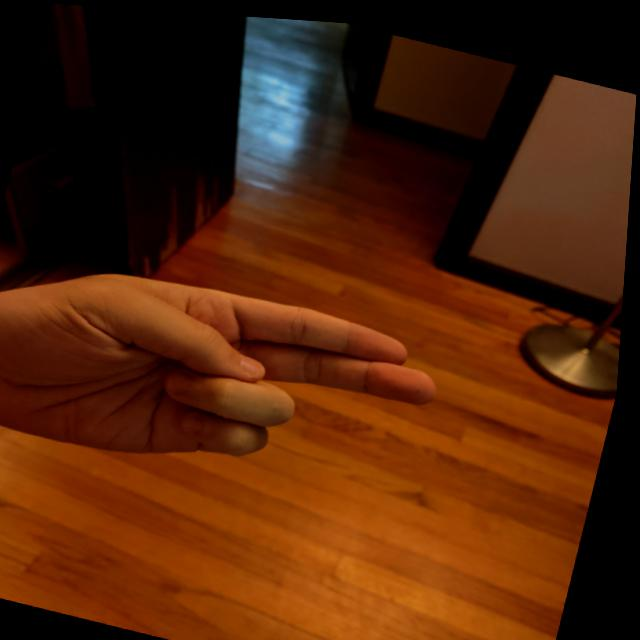H: (0, 227, 469, 532)
